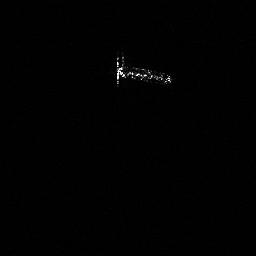ship: (115, 55, 173, 87)
